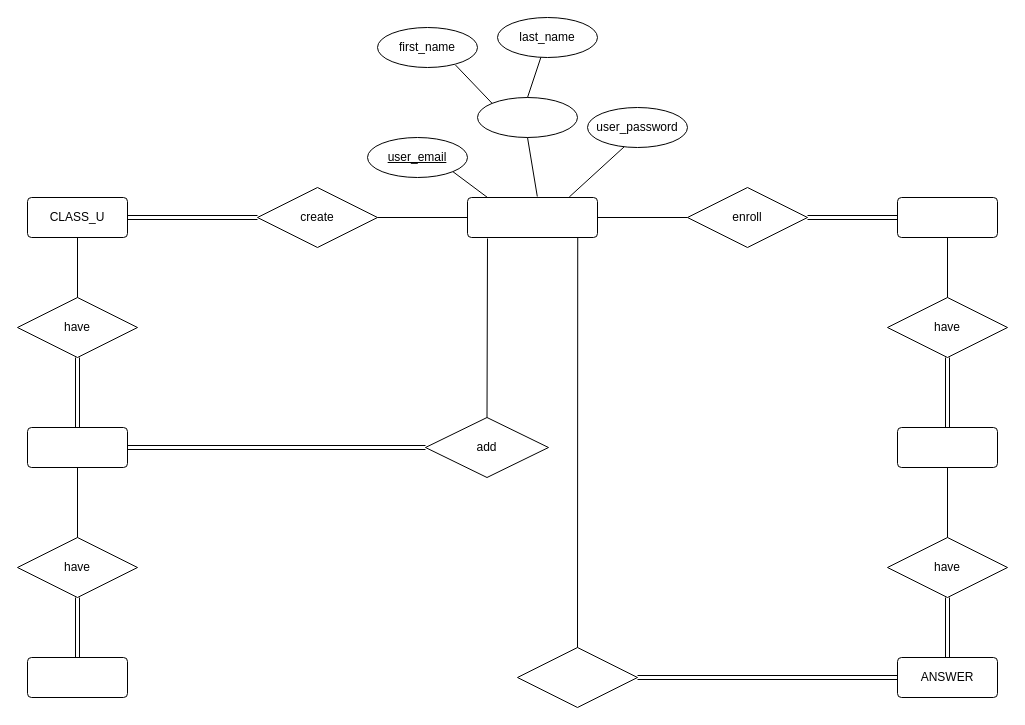
This 1025x725 diagram has some shape labels left out. The shapes that lost their labels are listed below. From the top down, each one's centre as x and y in pixels, then its label:
pixel 527 117: user_name
pixel 532 217: USER
pixel 947 217: CLASS
pixel 77 447: QUESTION_U
pixel 947 447: QUESTION
pixel 77 677: ANSWER_U
pixel 577 677: reply
